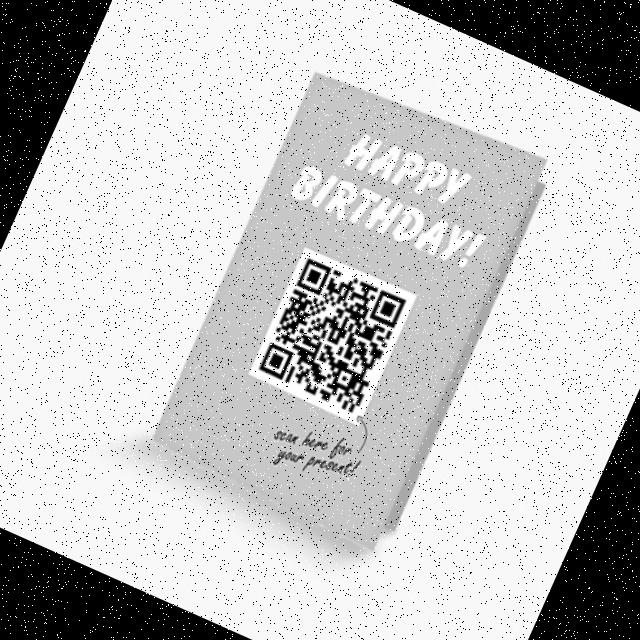QR-codes: (254, 251, 412, 417)
